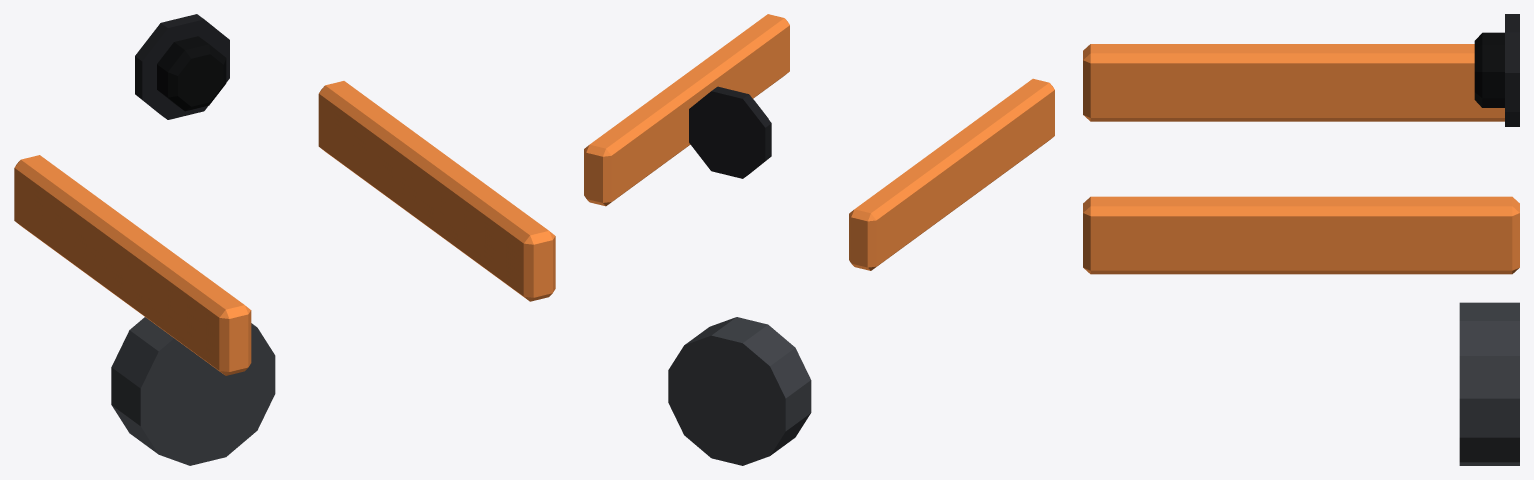
The model's file is guarded_toggle_body.glb.
3 renders of one model, left to right at view 1: azimuth 30°, elevation 25°; view 2: azimuth 150°, elevation 25°; view 3: azimuth 270°, elevation 25°, orthographic. The views are drawn at different scales.
Visible parts, largest first — view 1: GuardedToggleBody; view 2: GuardedToggleBody; view 3: GuardedToggleBody.
Part boxes in pixels (x1,y1,x2,y2): GuardedToggleBody: (14,14,555,465); GuardedToggleBody: (584,14,1054,465); GuardedToggleBody: (1083,14,1519,465).
Size of the model in its own units: 0.053 by 0.0636 by 0.058.
